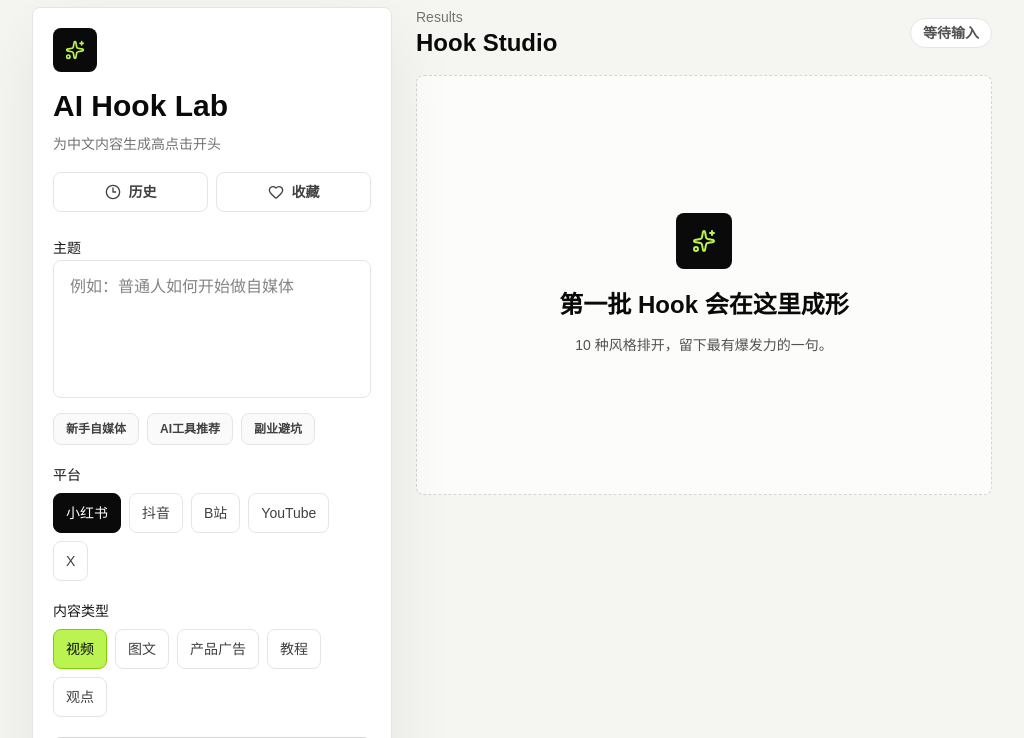
Test: AiHookLabApp › generates hooks, renders results, and saves history locally
Type "普通人如何开始做自媒体" into the text box labelled "主题".
click(212, 329); type("普通人如何开始做自媒体")  # box [53,260,371,398]
(page scrolled)
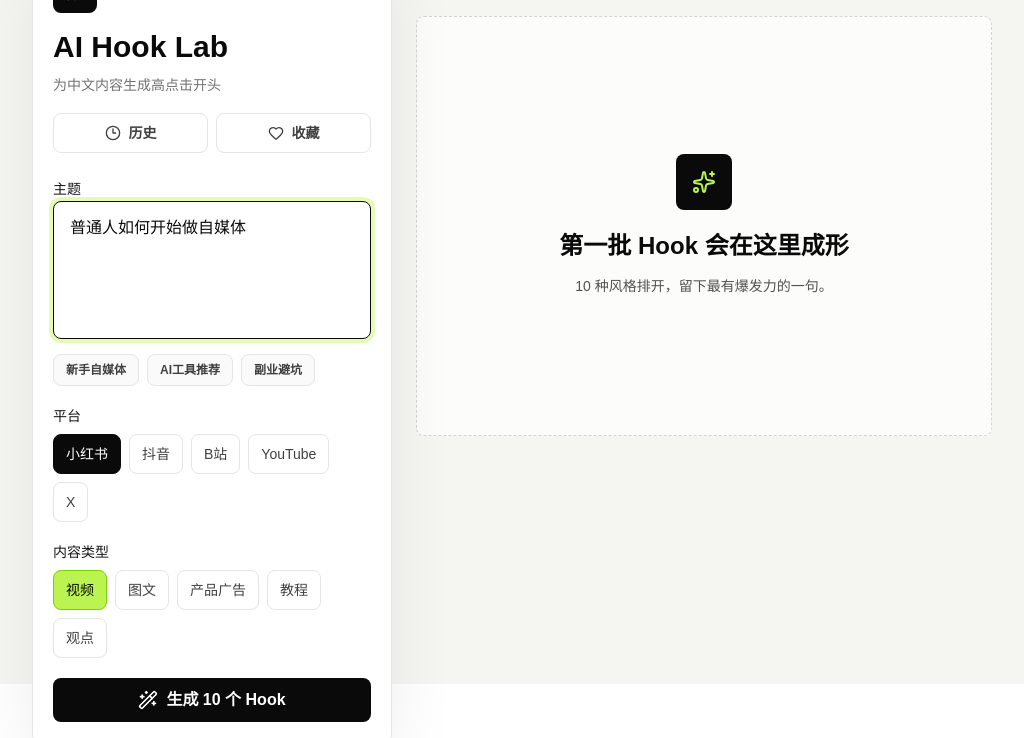
Result: the button "生成 10 个 Hook" is enabled
Click the button "生成 10 个 Hook".
click(212, 700)  # box [53,678,371,722]
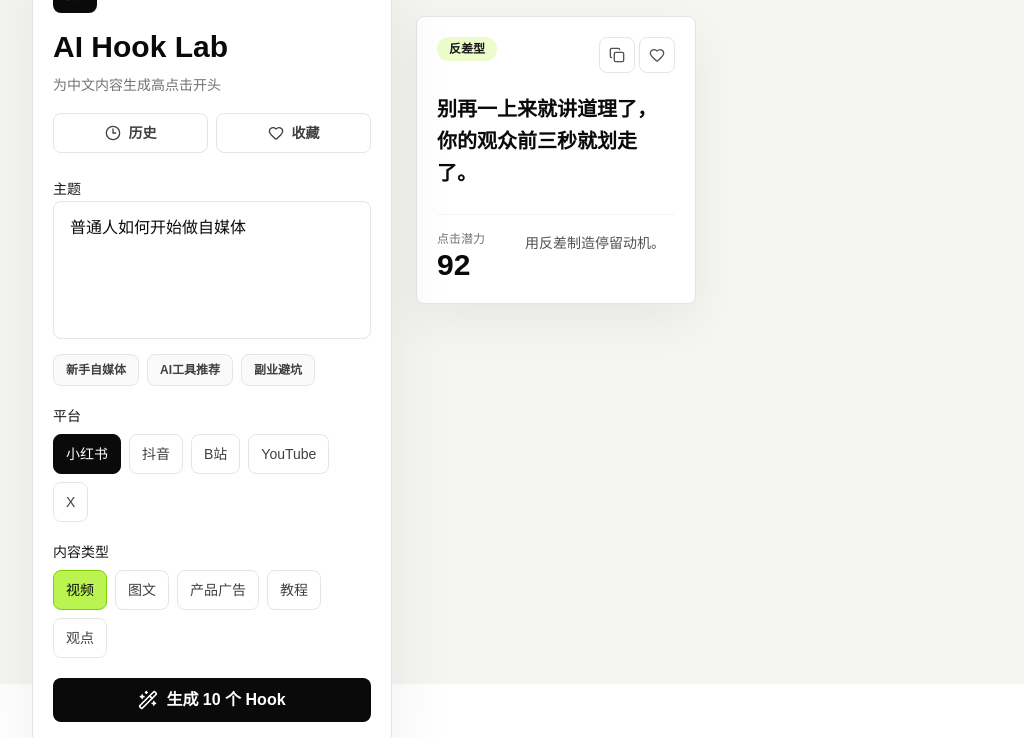
Result: the text "别再一上来就讲道理了，你的观众前三秒就划走了。" is shown at [437,93,675,189]
Result: the text "反差型" is shown at [437,37,497,61]
Result: the text "92" is shown at [437,248,470,281]
